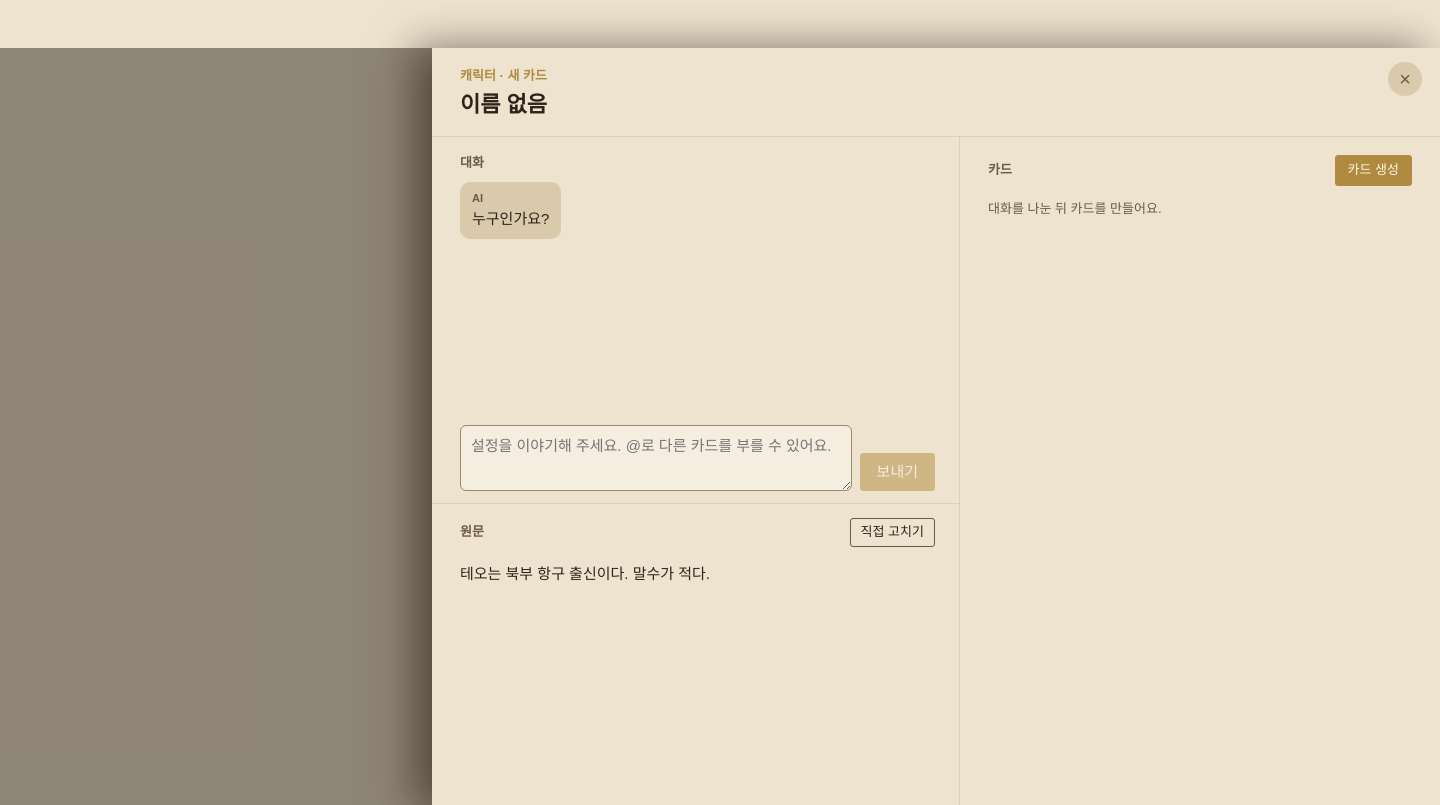
Test: a stale card asks to generate again
Click the button "카드 생성" at (1373, 170), box [1334,155,1412,186]
(page scrolled)
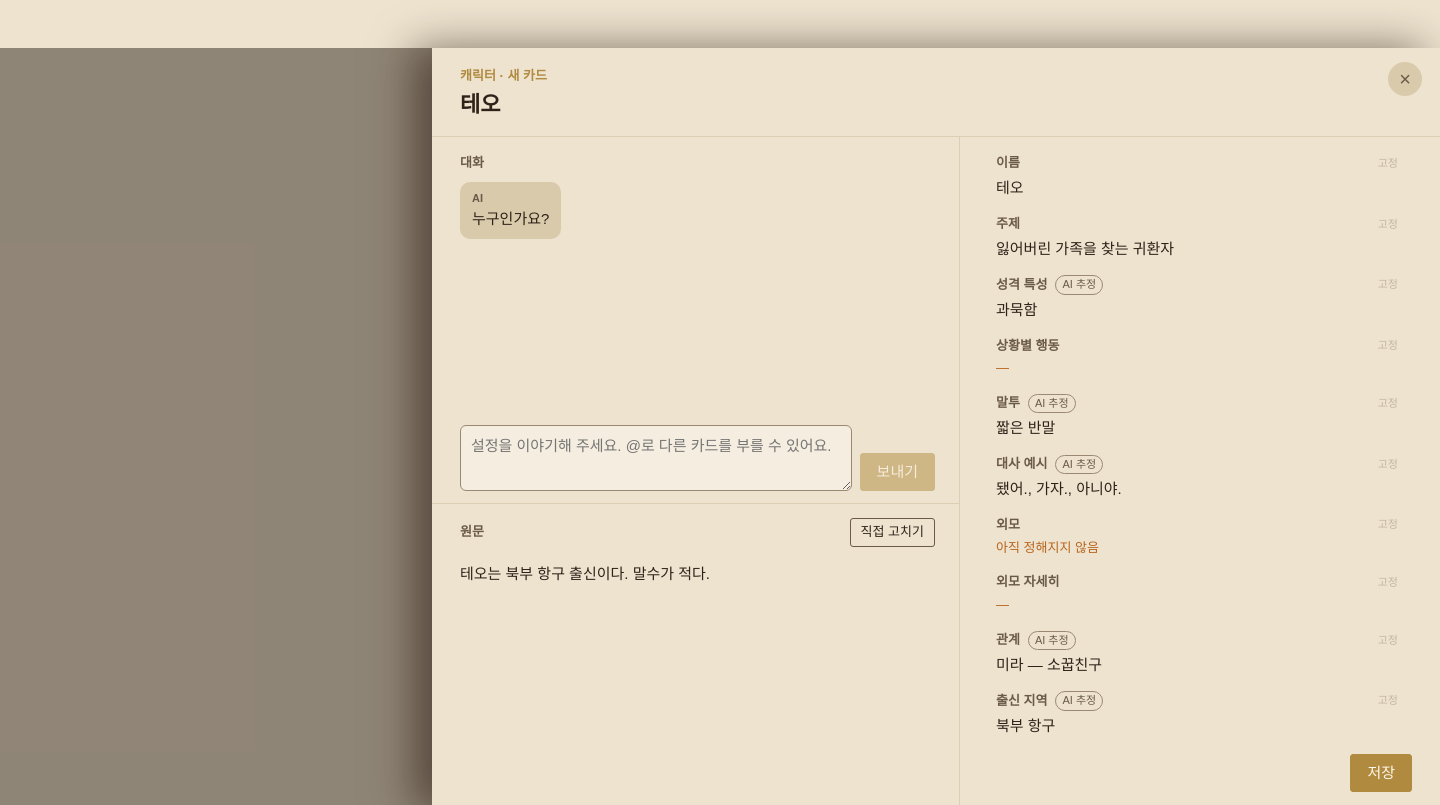
expect the button "저장" is shown: met
Click the button "저장" at (1381, 772), box [1350,754,1412,792]
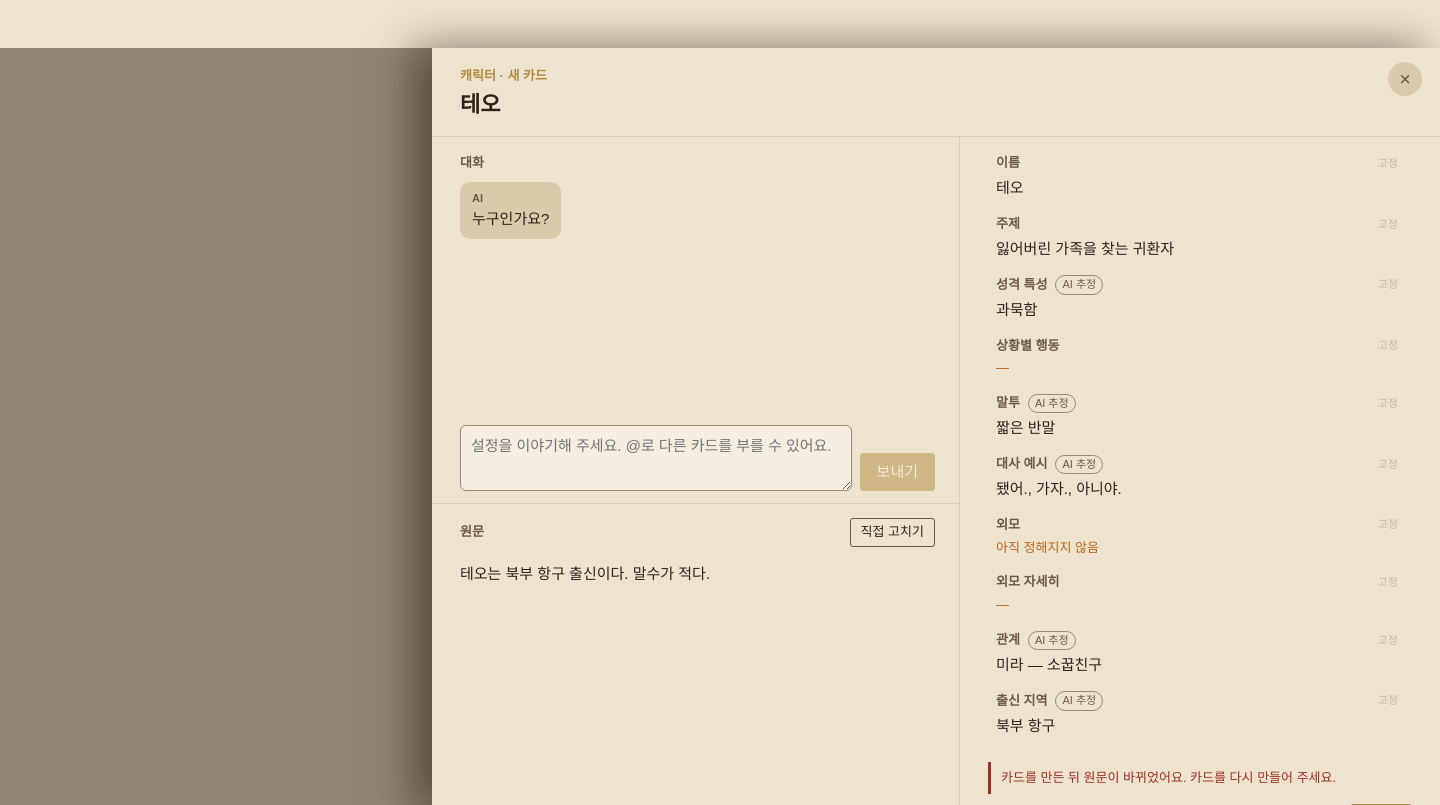
expect the text "카드를 만든 뒤 원문이 바뀌었어요. 카드를 다시 만들어 주세요." is shown: met, box [988,762,1412,794]
